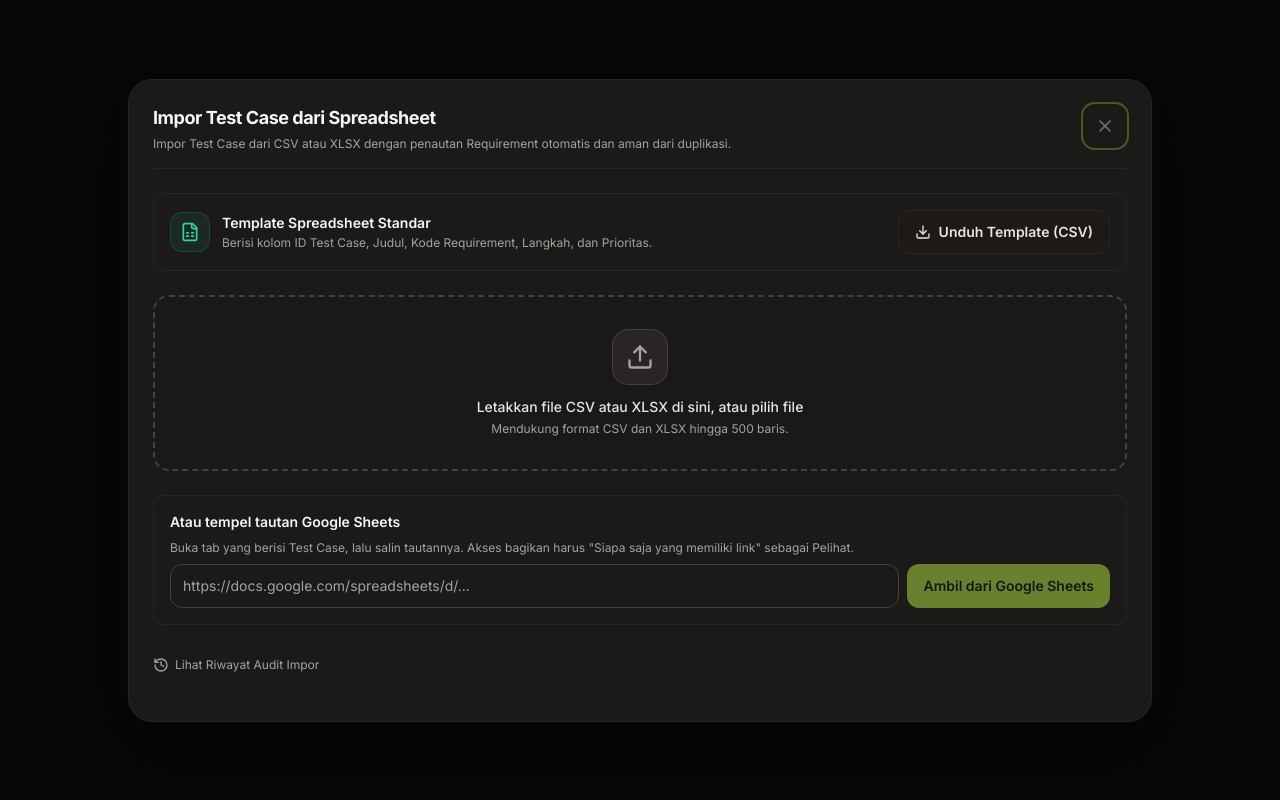
Test: TestCaseImportWizardModal › fetches a Google Sheets link, scopes the preview to the QA subtask, and explains rejected rows
Expected: the button "Ambil dari Google Sheets" is disabled, [908,564,1110,608]
Type "https://docs.google.com/spreadsheets/d/abc/edit#gid=0" into the field labelled "Atau tempel tautan Google Sheets" at (535, 586), box [170,564,900,608]
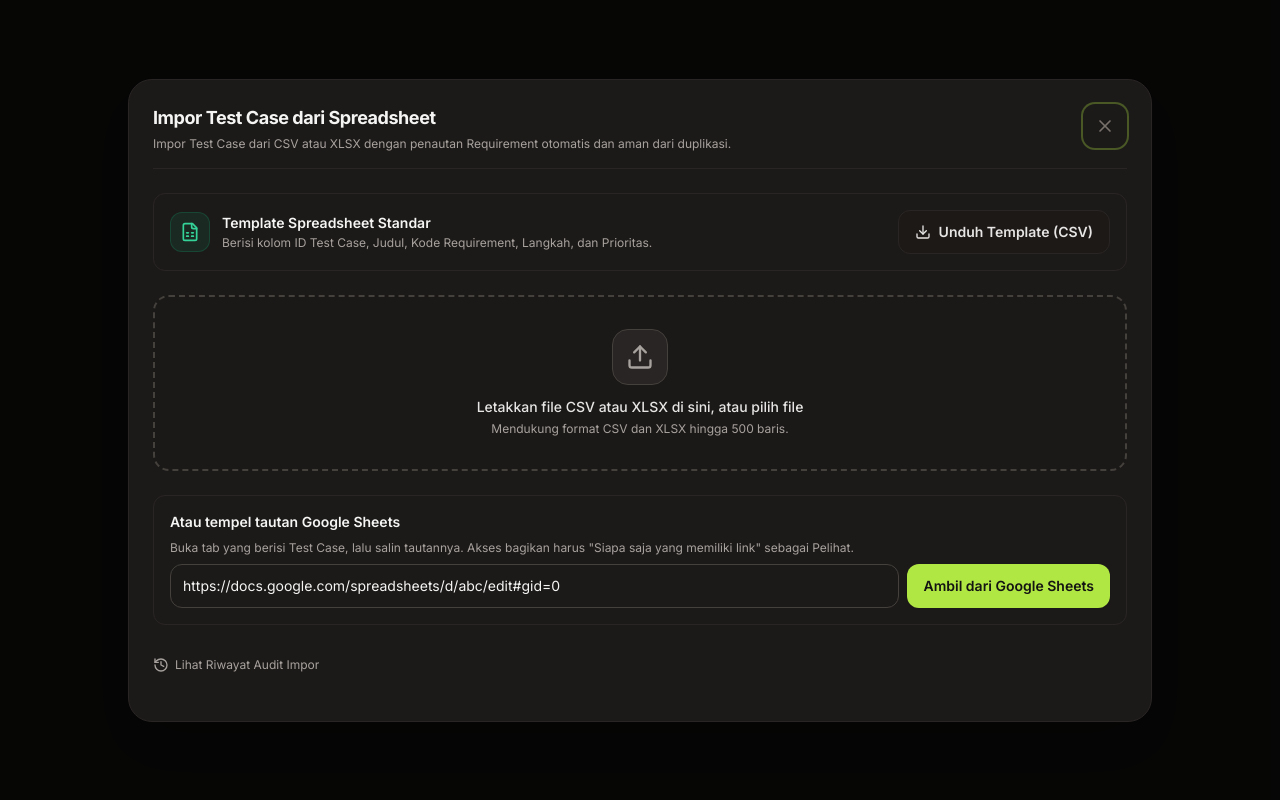
Click the button "Ambil dari Google Sheets" at (1009, 586), box [908,564,1110,608]
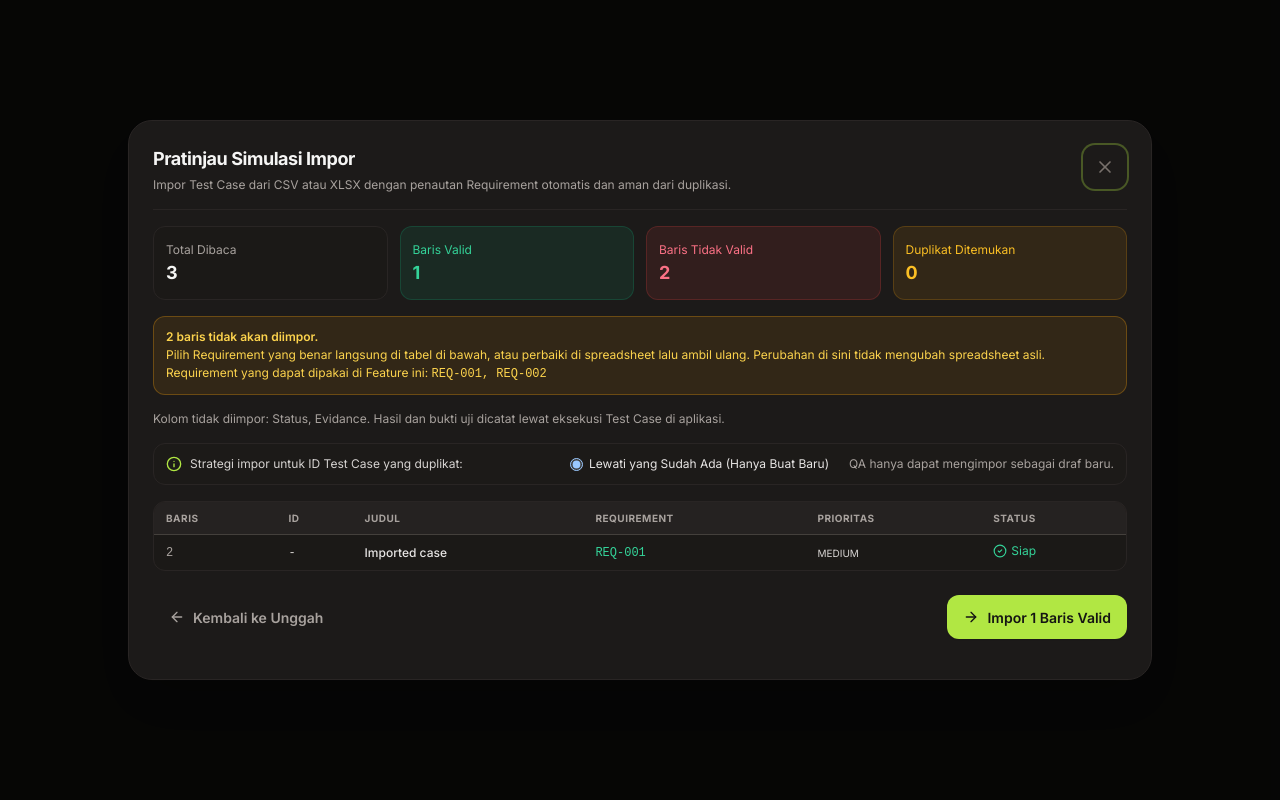
Result: the text "2 baris tidak akan diimpor." is shown at [166,329,318,344]
Result: the text "REQ-001, REQ-002" is shown at [432,367,547,381]
Result: the text "Kolom tidak diimpor: Status, Evidance" is shown at [153,411,725,426]
